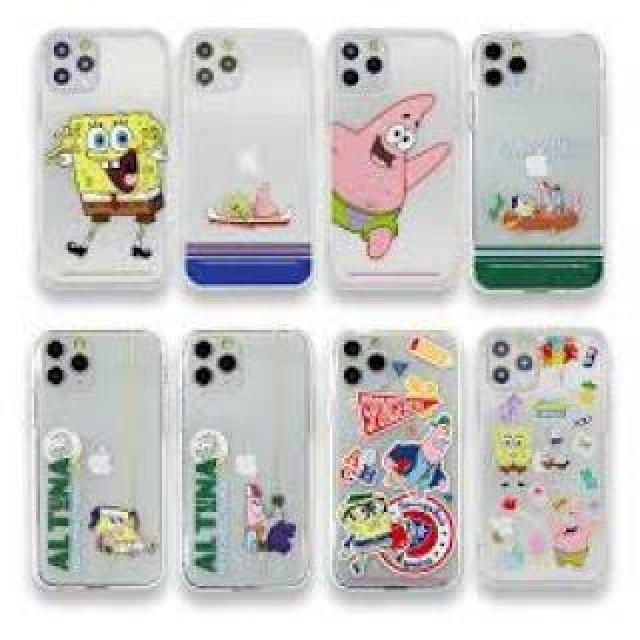smart phone: (15, 318, 177, 607), (25, 15, 167, 303), (340, 323, 475, 622), (472, 23, 612, 297), (186, 330, 322, 608), (325, 22, 457, 296), (485, 322, 605, 602), (190, 15, 303, 300)
